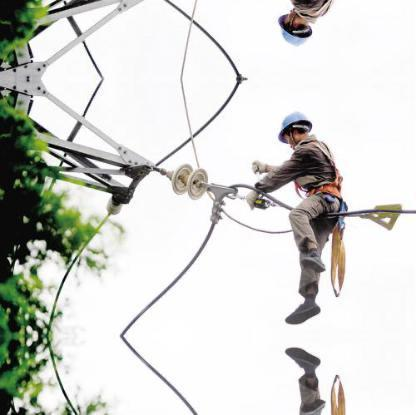helmet: (275, 108, 314, 141)
